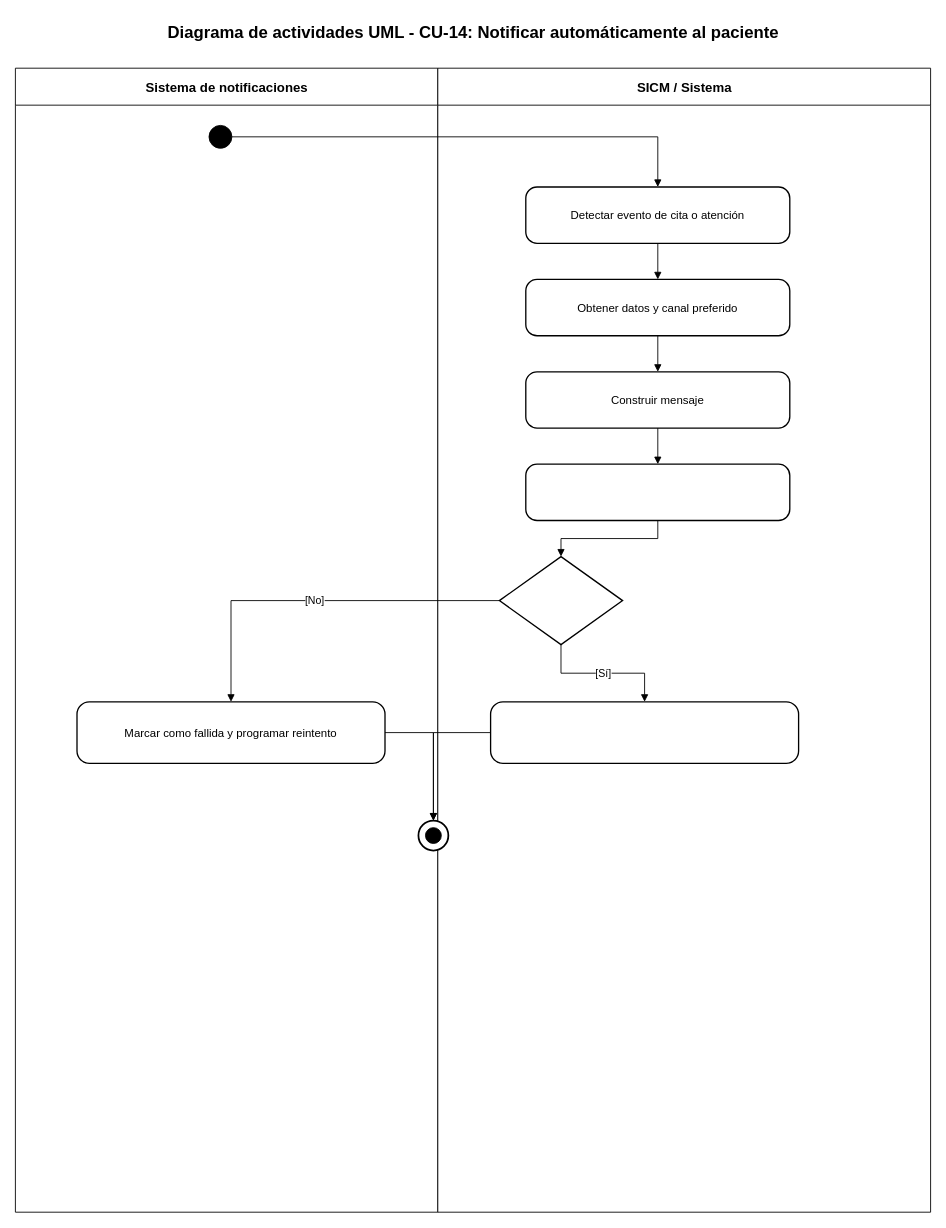
Some shapes in this 946 by 1228 pixel diagram are drawn without their labels. Here are the shapes that lost their labels. From the top down, the box of each, then its label:
(525, 463, 790, 521): Enviar por correo, SMS o WhatsApp
(498, 556, 623, 645): ¿Envío exitoso?
(490, 701, 799, 764): Registrar notificación entregada
